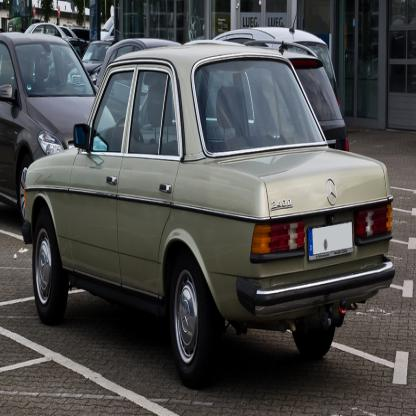Car: (0, 0, 395, 389)
